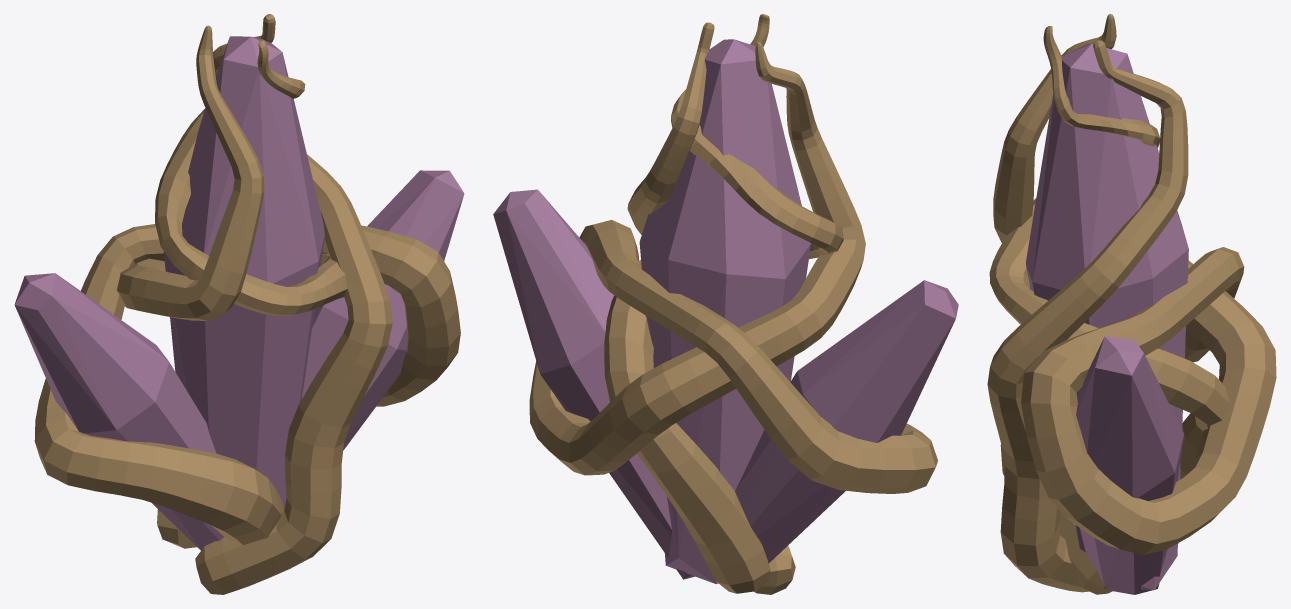
Rendered from CrystalUV.fbx.
3 views of the same model, side by side, from view 1: azimuth 30°, elevation 25°; view 2: azimuth 150°, elevation 25°; view 3: azimuth 270°, elevation 25° (orthographic). The views are drawn at different scales.
Parts seen in each view (by area): view 1: Cube.006, polySurface1, polySurface3, polySurface2; view 2: Cube.006, polySurface1, polySurface3, polySurface2; view 3: Cube.006, polySurface1, polySurface2.
Boxes of the visible parts, x1=… form: Cube.006: x1=34, y1=14, x2=460, y2=594; polySurface1: x1=163, y1=36, x2=324, y2=509; polySurface3: x1=14, y1=273, x2=223, y2=550; polySurface2: x1=302, y1=170, x2=464, y2=450; Cube.006: x1=529, y1=14, x2=937, y2=594; polySurface1: x1=639, y1=39, x2=811, y2=583; polySurface3: x1=735, y1=280, x2=958, y2=563; polySurface2: x1=493, y1=189, x2=694, y2=579; Cube.006: x1=987, y1=14, x2=1276, y2=594; polySurface1: x1=1026, y1=43, x2=1188, y2=590; polySurface2: x1=1076, y1=336, x2=1183, y2=594.
Size of the model in its own units: 9.61 by 11.4 by 5.19.
